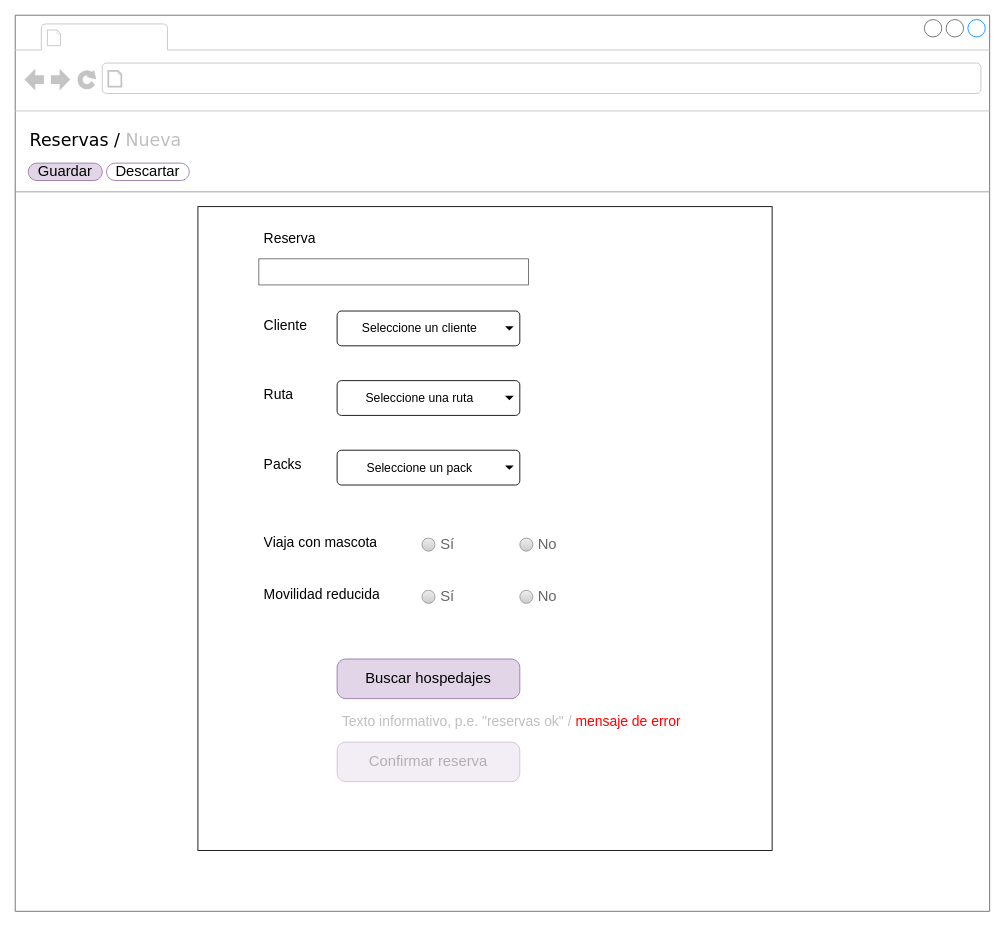
Some shapes in this 1005 by 927 pixel diagram are drawn without their labels. Each missing label, with the centre of its shape:
"Identificador de la reserva, p.e. 12345..." goes at point 393,271.
"localhost:8069/reservas/nueva" goes at point 236,78.
"Odoo" goes at point 115,36.
